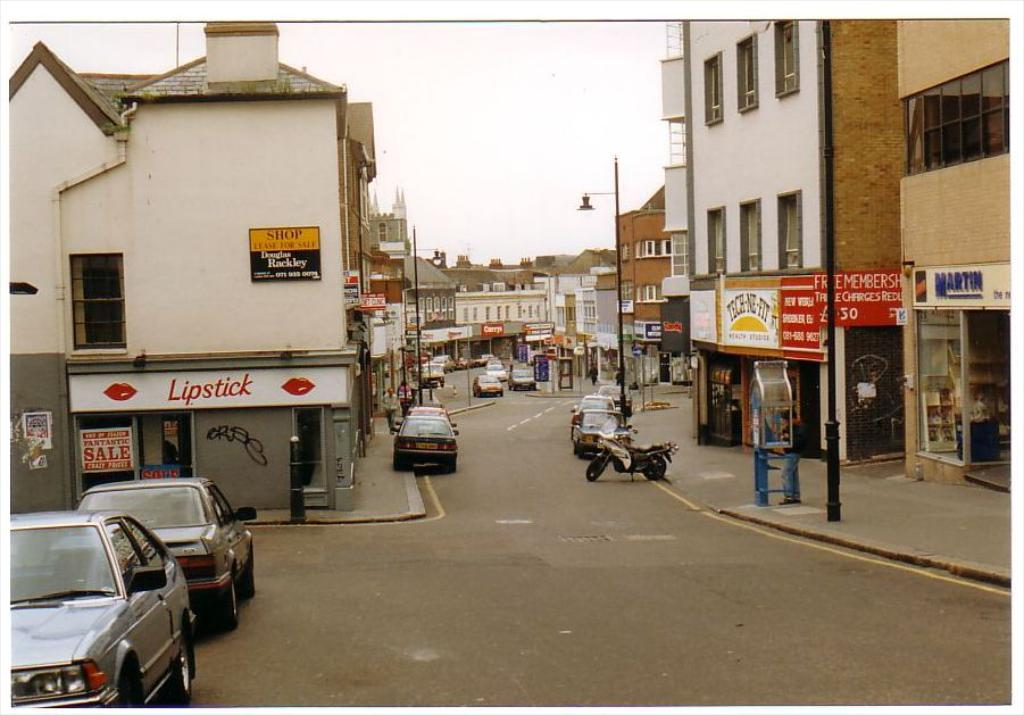Car: (0, 511, 195, 708), (50, 476, 259, 625), (392, 411, 462, 471), (572, 412, 622, 454), (568, 396, 612, 431), (413, 358, 443, 392), (598, 386, 628, 416), (476, 375, 503, 400), (577, 396, 613, 412), (508, 367, 535, 388), (596, 384, 617, 404), (488, 362, 504, 381), (430, 355, 453, 366)
